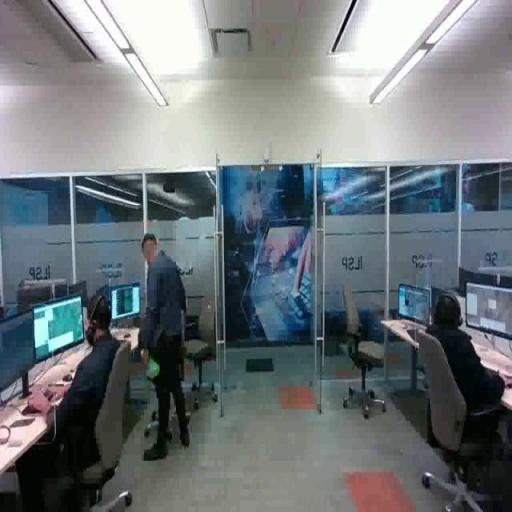person: (14, 291, 141, 505), (423, 288, 512, 475), (137, 231, 194, 461)
